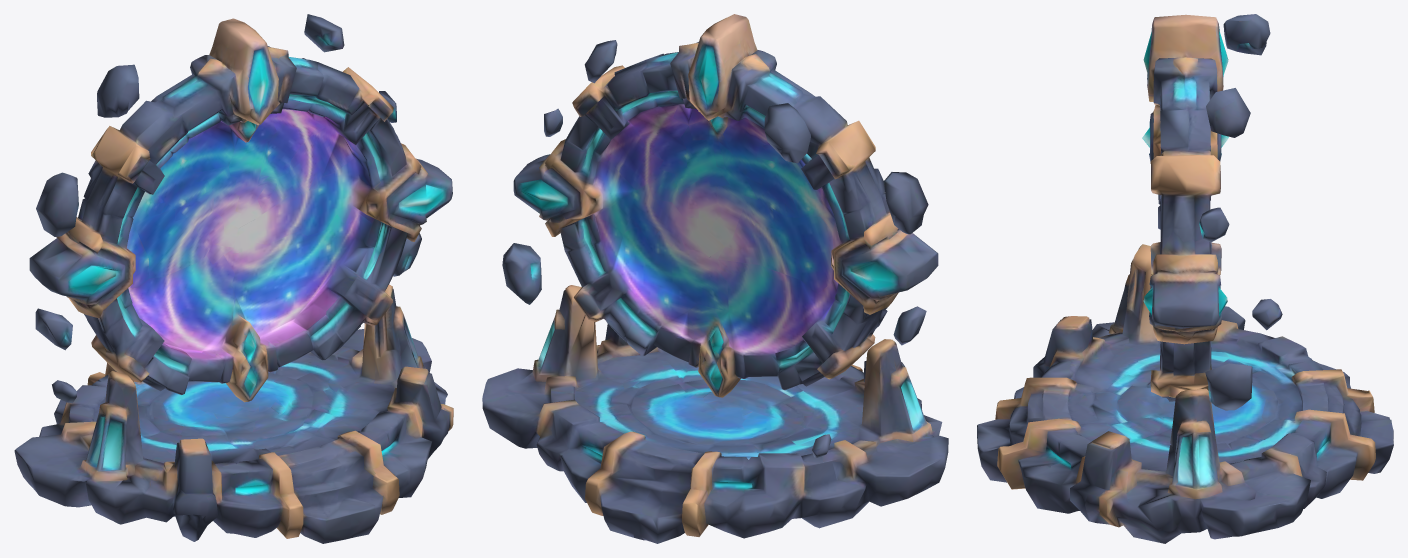
Rendered from portal.glb.
3 views of the same model, side by side, from view 1: azimuth 30°, elevation 25°; view 2: azimuth 150°, elevation 25°; view 3: azimuth 270°, elevation 25° (orthographic).
Visible parts, largest first — view 1: tripo_node_d49359cc-5fe4-4002-92c9-faf4db96e7e2; view 2: tripo_node_d49359cc-5fe4-4002-92c9-faf4db96e7e2; view 3: tripo_node_d49359cc-5fe4-4002-92c9-faf4db96e7e2.
Part boxes in pixels (x1,y1,x2,y2): tripo_node_d49359cc-5fe4-4002-92c9-faf4db96e7e2: (14,14,453,543); tripo_node_d49359cc-5fe4-4002-92c9-faf4db96e7e2: (482,14,948,543); tripo_node_d49359cc-5fe4-4002-92c9-faf4db96e7e2: (977,14,1393,543).
Bounding box in the file's own units: 0.9962 × 0.9969 × 0.8399.
Materials: 1 (1 with a texture image).
